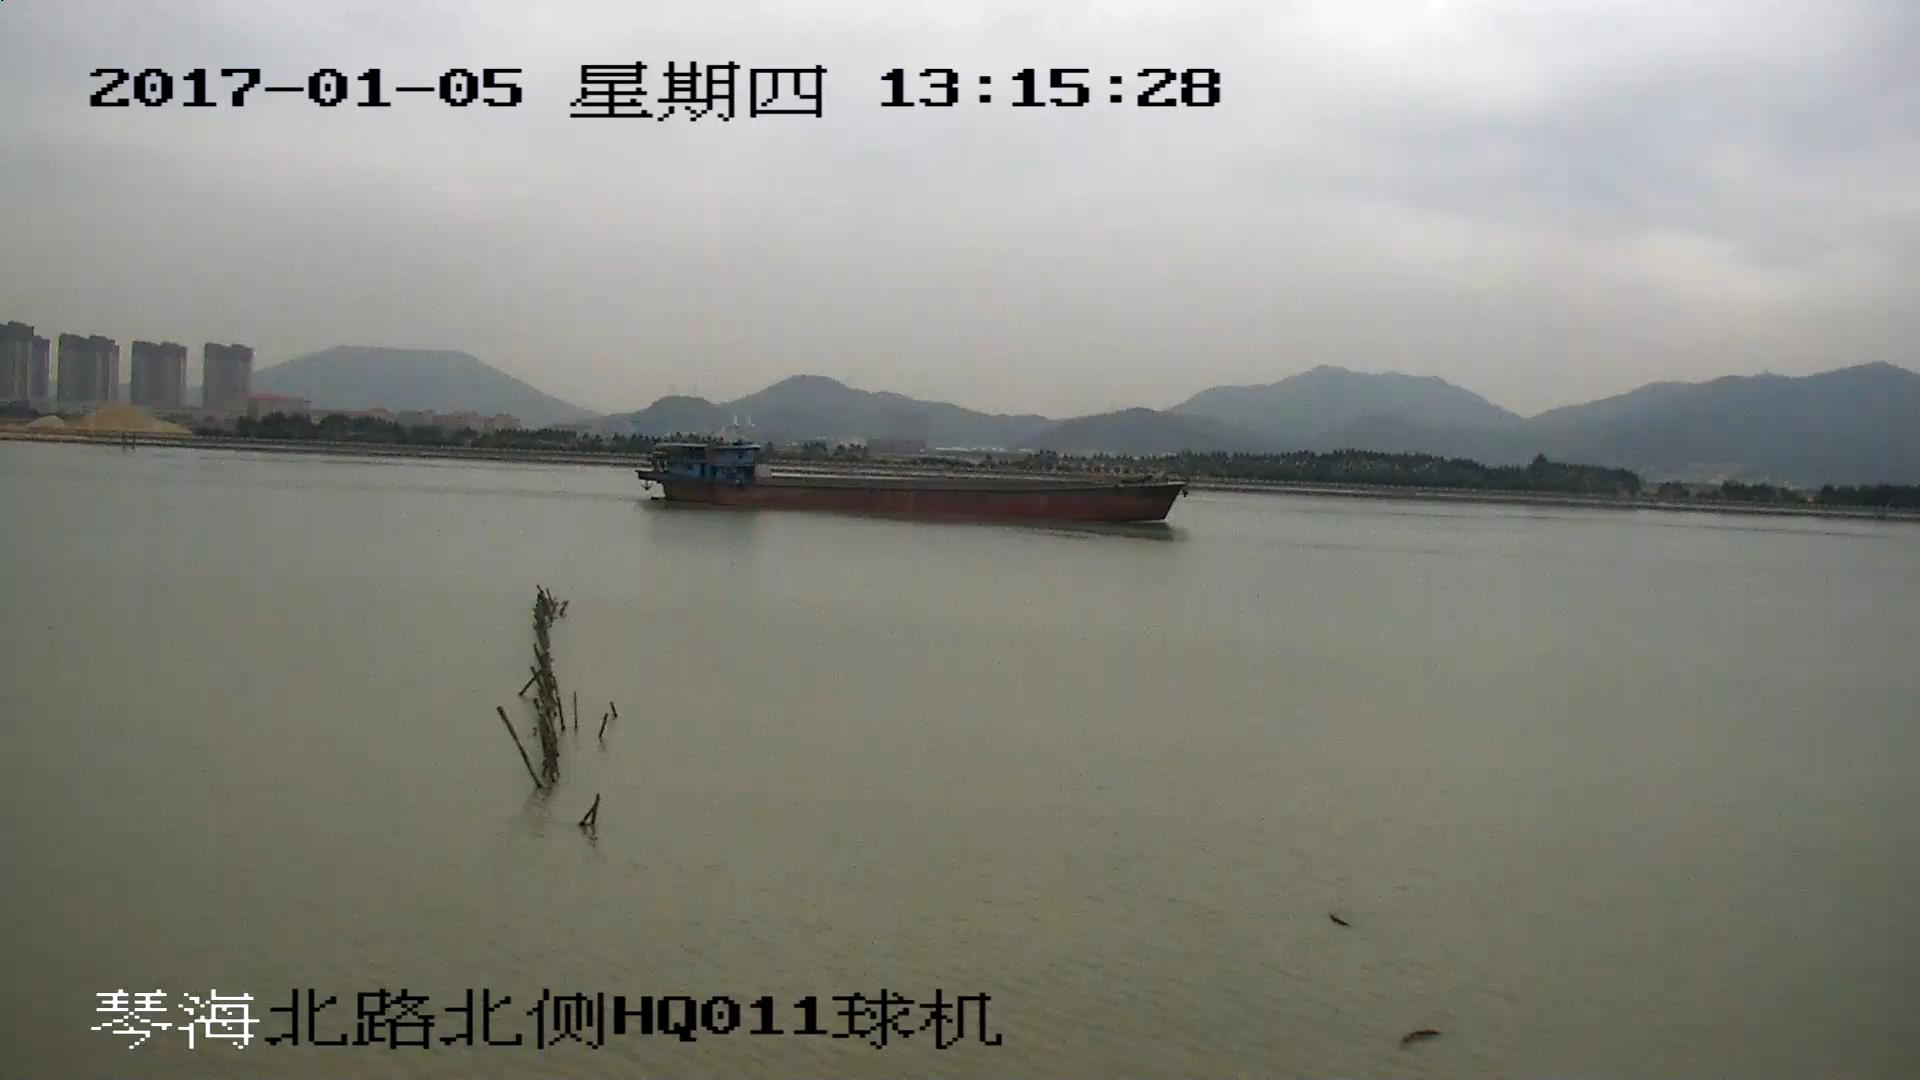bulk cargo carrier: (635, 442, 1191, 523)
